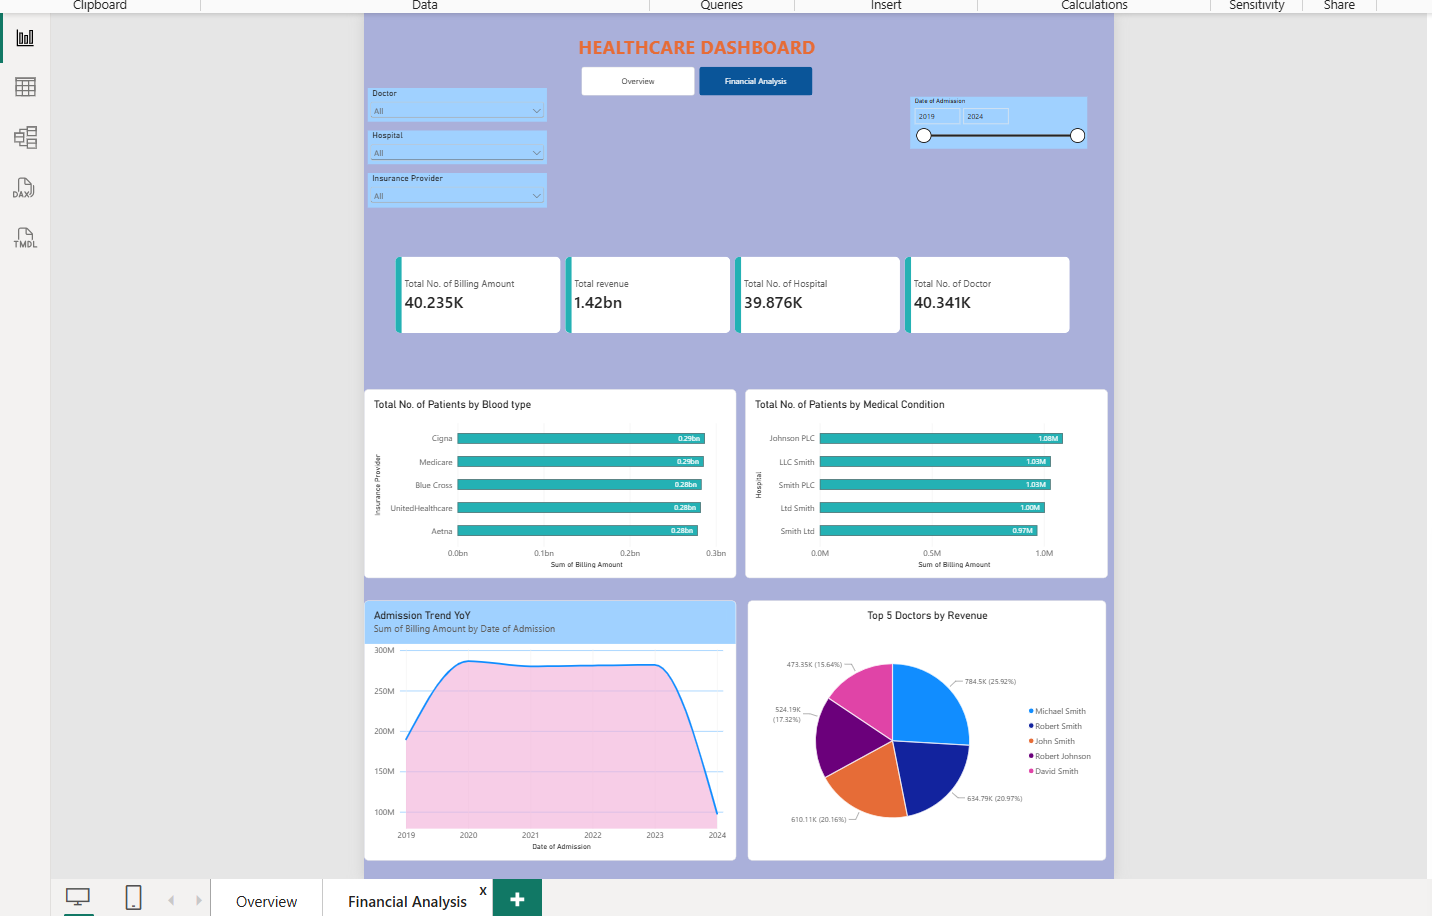

The page's visual inventory and layout, read from the dashboard file:
{"tool":"powerbi","page":{"name":"Financial Analysis","canvas":[1300,1500],"ordinal":1},"visuals":[{"type":"cardVisual","fields":{"Data":["Count(healthcare_dataset.Name)","Sum(healthcare_dataset.Billing Amount)","Count(healthcare_dataset.Hospital)","Count(healthcare_dataset.Doctor)"]},"box":[53.7,422.4,1171.6,132.8],"z":1000},{"type":"barChart","title":"Total No. of Patients by Blood type","fields":{"Category":["healthcare_dataset.Insurance Provider"],"Y":["Sum(healthcare_dataset.Billing Amount)"]},"box":[0,650.7,644.8,326.9],"z":2000},{"type":"barChart","title":"Total No. of Patients by Medical Condition","fields":{"Category":["healthcare_dataset.Hospital"],"Y":["Sum(healthcare_dataset.Billing Amount)"]},"box":[661.2,650.7,628.4,326.9],"z":3000},{"type":"lineChart","title":"Admission Trend YoY","fields":{"Category":["healthcare_dataset.Date of Admission"],"Y":["Sum(healthcare_dataset.Billing Amount)"]},"box":[0,1017.9,644.8,450.7],"z":4000},{"type":"pieChart","title":"Top 5 Doctors by Revenue ","fields":{"Category":["healthcare_dataset.Doctor"],"Y":["Sum(healthcare_dataset.Billing Amount)"]},"box":[664.2,1017.9,620.9,450.7],"z":5000},{"type":"slicer","fields":{"Values":["healthcare_dataset.Doctor"]},"box":[6,129.9,310.4,58.2],"z":5002},{"type":"slicer","fields":{"Values":["healthcare_dataset.Hospital"]},"box":[6,204.5,310.4,58.2],"z":5003},{"type":"slicer","fields":{"Values":["healthcare_dataset.Insurance Provider"]},"box":[6,277.6,310.4,59.7],"z":5004},{"type":"slicer","fields":{"Values":["healthcare_dataset.Date of Admission"]},"box":[946.3,144.8,306,89.6],"z":5005},{"type":"textbox","box":[316.4,35.8,520.9,58.2],"z":5006},{"type":"pageNavigator","box":[377.6,94,400,50],"z":5007}]}

Visuals, with their boxes on the page's 1300x1500 design canvas (x1, y1, x2, y2). These are canvas units, not pixel positions in the 1432x916 screenshot, which may show the page scaled, cropped or inside an application window:
cardVisual - Count(healthcare_dataset.Name) x Sum(healthcare_dataset.Billing Amount): (54,422,1225,555)
"Total No. of Patients by Blood type" barChart: (0,651,645,978)
"Total No. of Patients by Medical Condition" barChart: (661,651,1290,978)
"Admission Trend YoY" lineChart: (0,1018,645,1469)
"Top 5 Doctors by Revenue " pieChart: (664,1018,1285,1469)
slicer - healthcare_dataset.Doctor: (6,130,316,188)
slicer - healthcare_dataset.Hospital: (6,204,316,263)
slicer - healthcare_dataset.Insurance Provider: (6,278,316,337)
slicer - healthcare_dataset.Date of Admission: (946,145,1252,234)
textbox: (316,36,837,94)
pageNavigator: (378,94,778,144)
